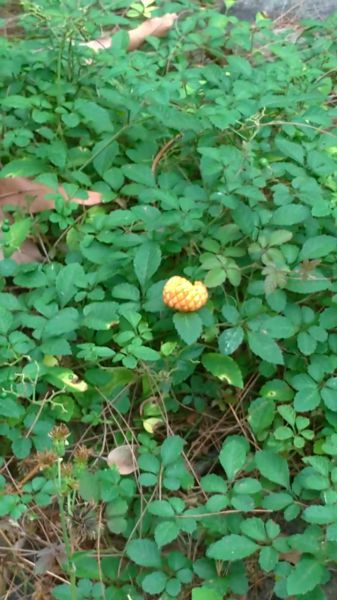eggs: (156, 268, 214, 317)
